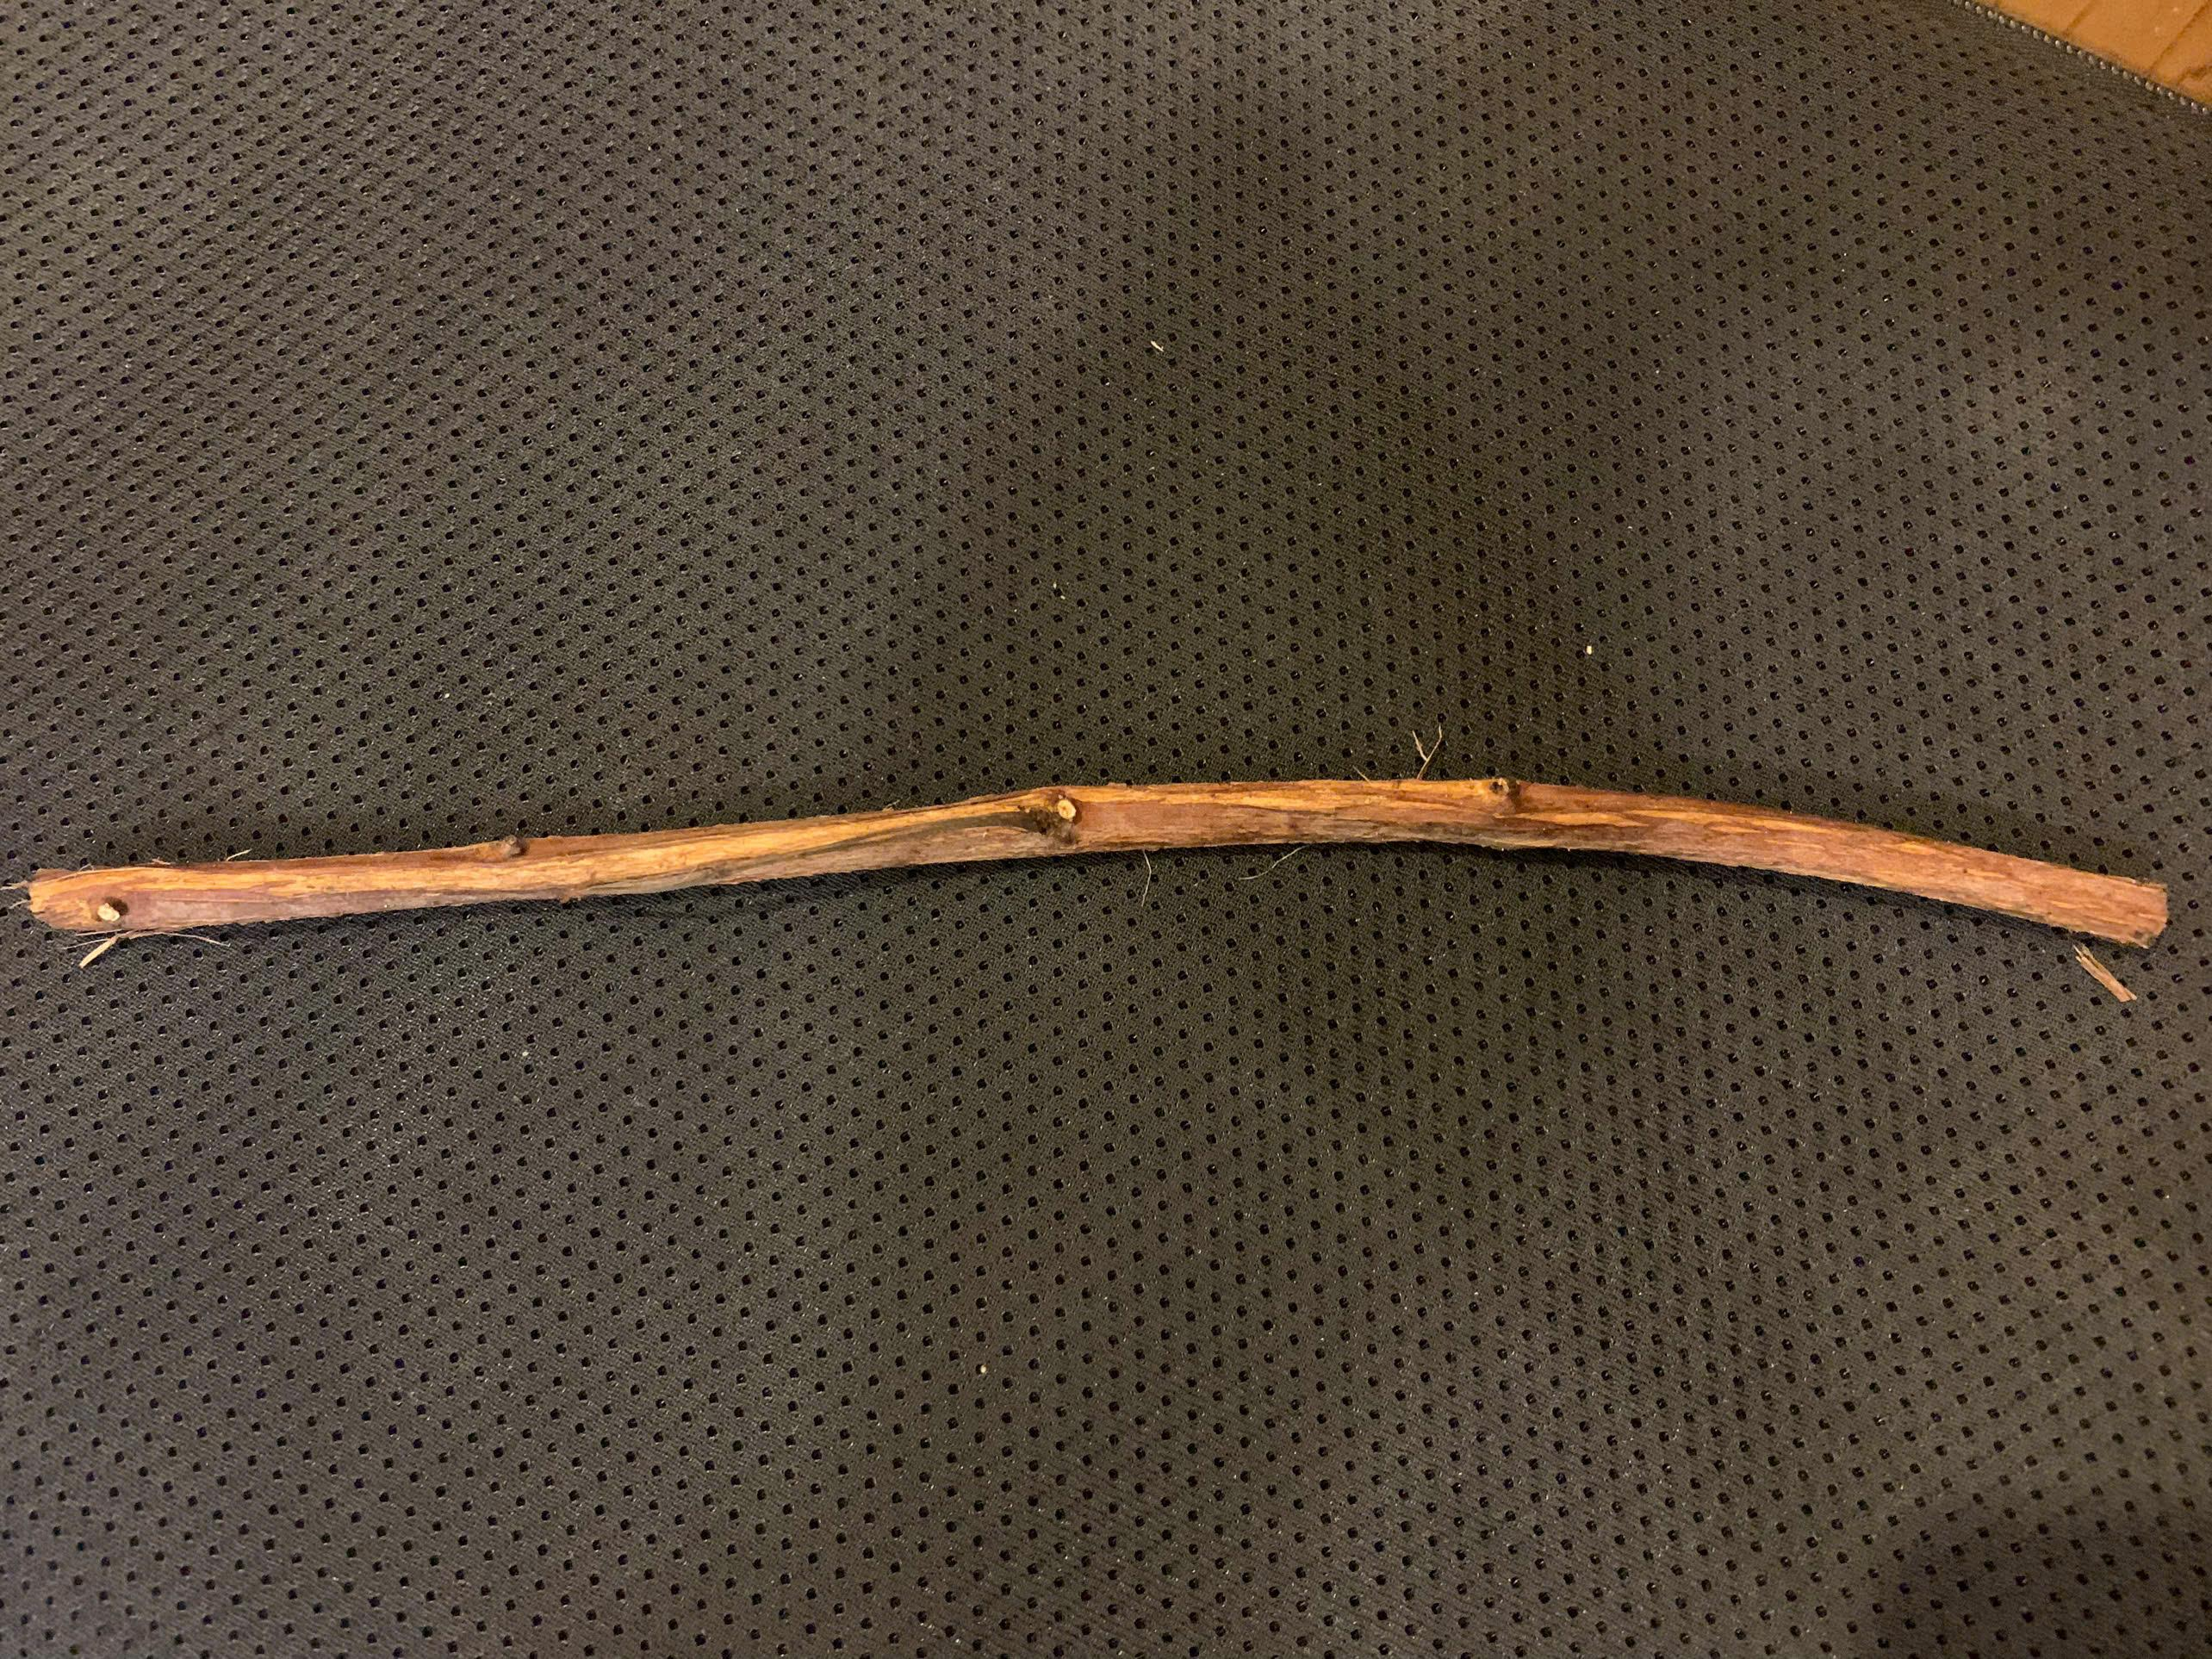Huu co: (31, 765, 2167, 962)
